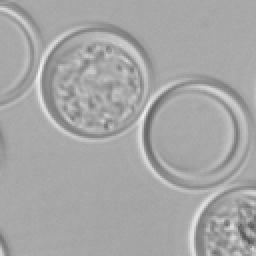picoshell: (36, 24, 150, 140), (136, 78, 250, 192), (190, 180, 254, 254), (0, 2, 40, 108), (0, 234, 8, 254)
